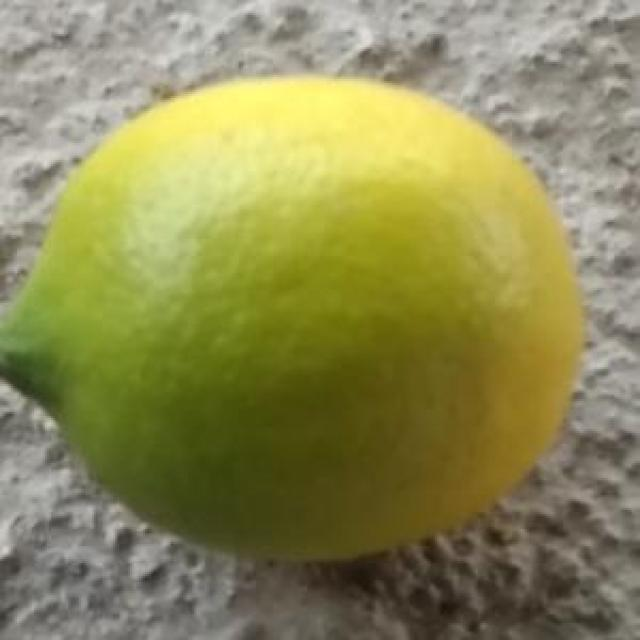lemon: (2, 73, 583, 556)
